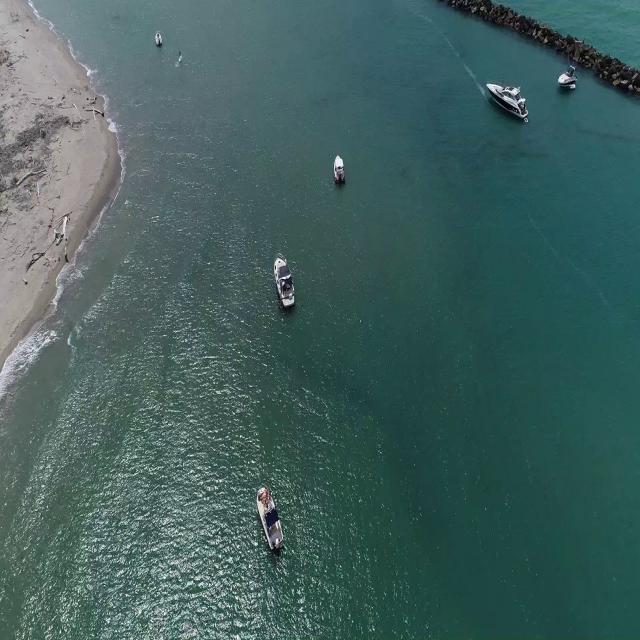boat: (485, 81, 531, 127), (257, 484, 284, 547), (273, 252, 296, 310), (555, 66, 580, 92), (333, 150, 348, 186), (154, 29, 162, 46)
person: (178, 43, 184, 55)
surfboard: (178, 53, 185, 66)
wood: (27, 217, 70, 263)
